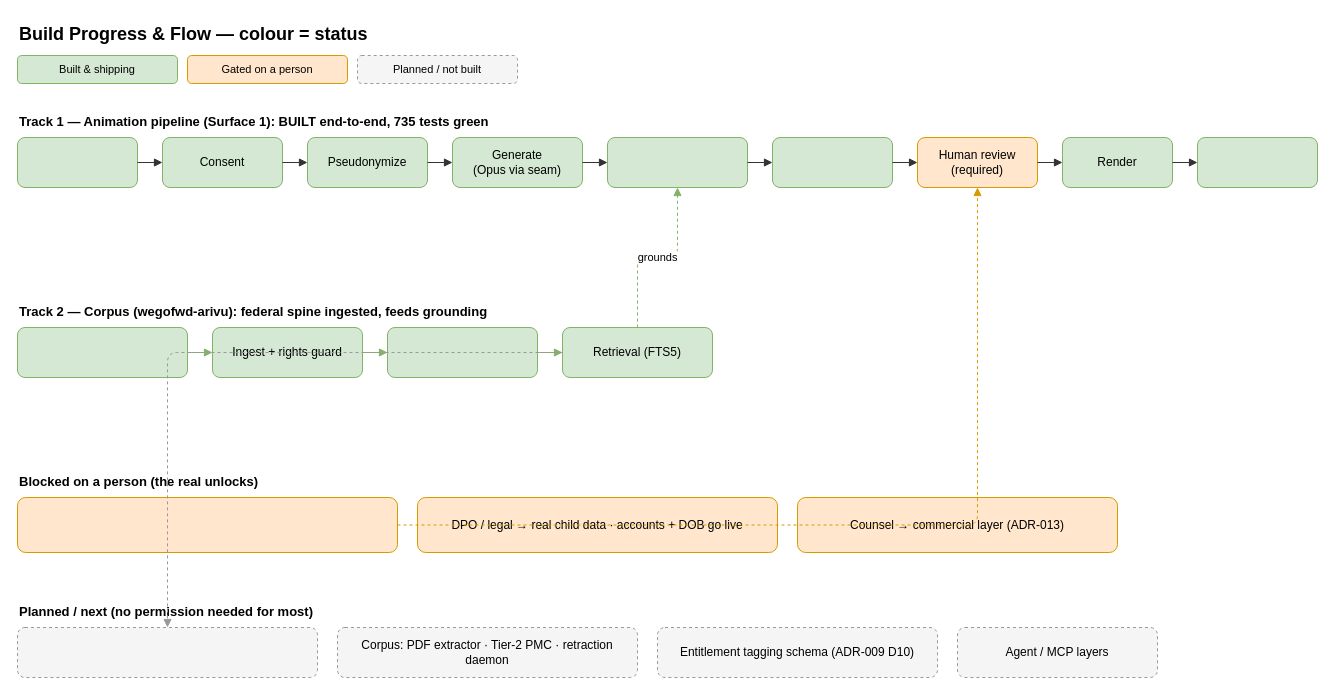
The diagram is 1335 pixels wide and 695 high, and some of its shapes have lost their labels. The shapes that lost their labels are listed below. From the top down, each one's box as (x1, y1, x2, y2) in pixels, then its label:
(16, 136, 138, 188): Story
(606, 136, 748, 188): Ground (cite corpus) KC-21
(772, 136, 892, 188): Validate + safety
(1196, 136, 1318, 188): Animation
(16, 326, 188, 378): Federal sources CDC·ED·NIH·CMS·CPIR·MI
(386, 326, 538, 378): SqliteCorpus (278 chunks)
(16, 496, 398, 552): Clinician → KC-16 validators · M1 progress engine · parent progress report
(16, 626, 318, 678): Surface 2 — Practice Assistant (cited Q&A · entitlement discovery)
